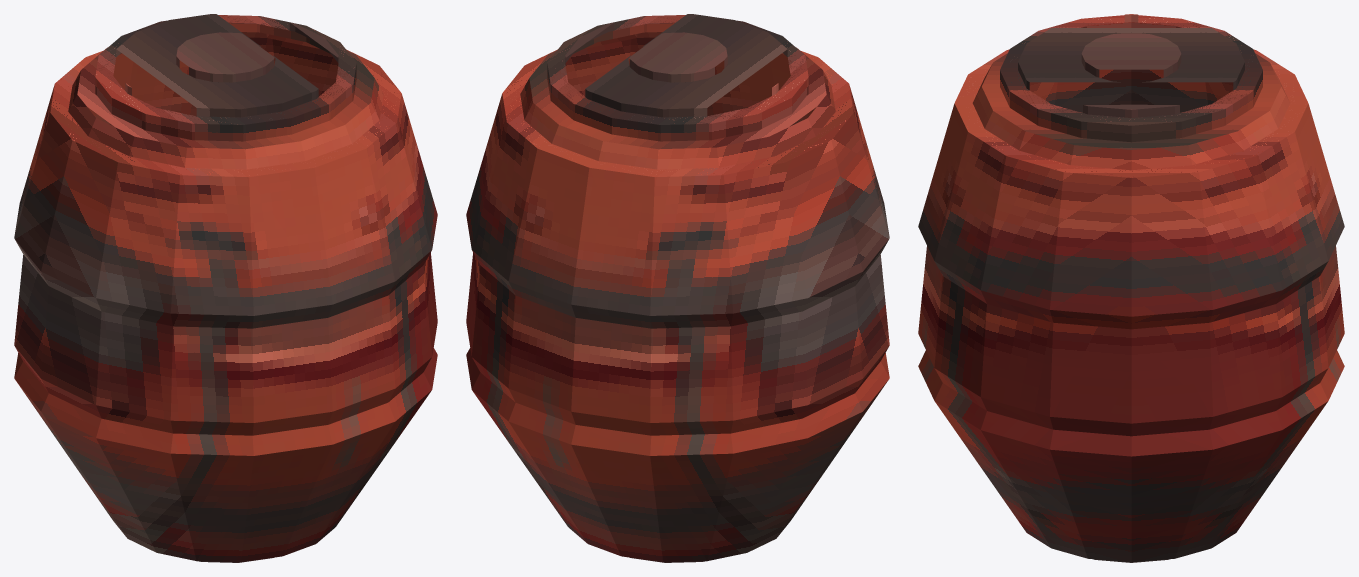
Rendered from barrel.obj.
3 views of the same model, side by side, from view 1: azimuth 30°, elevation 25°; view 2: azimuth 150°, elevation 25°; view 3: azimuth 270°, elevation 25° (orthographic).
Size of the model in its own units: 0.329 by 0.4061 by 0.329.
